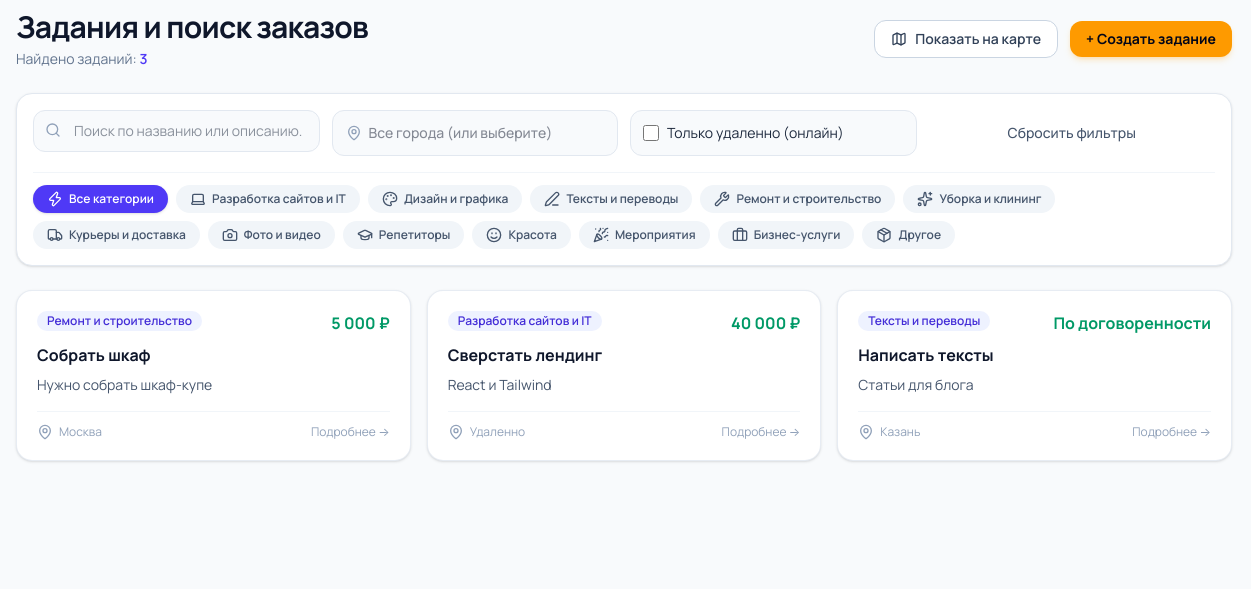
it: TasksPage › «Сбросить фильтры» возвращает список целиком
The image size is (1251, 589).
Type "нетакогозадания" into the field with placeholder "Поиск по названию или описанию...".
click(176, 131); type("нетакогозадания")  # box [33,110,320,152]
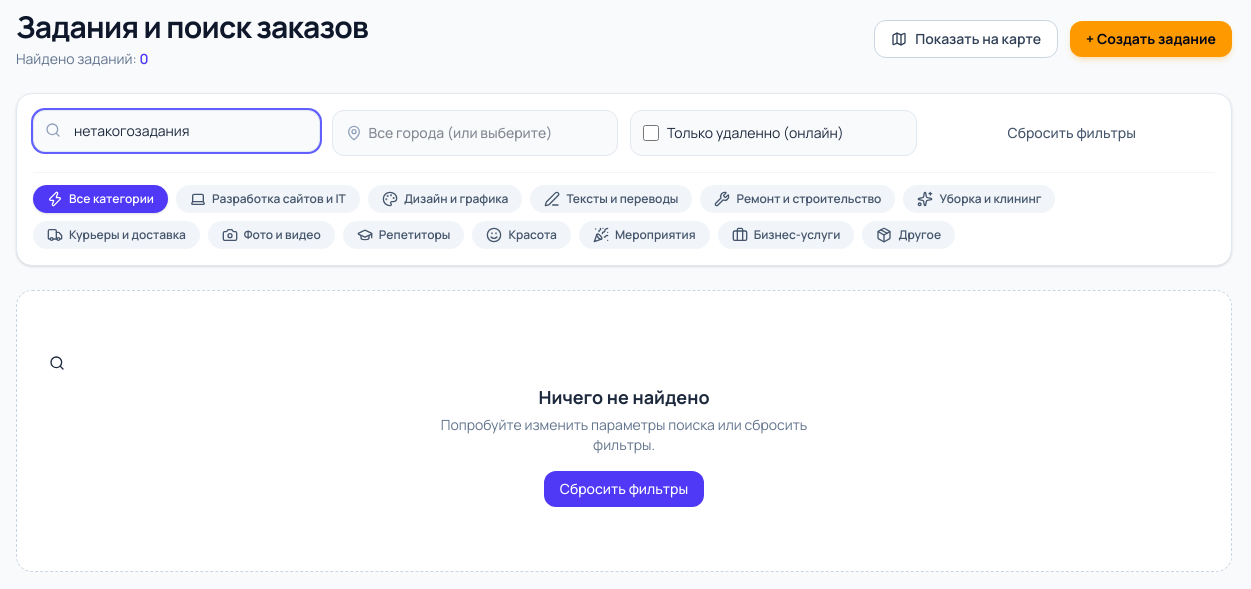
Click the button "Сбросить фильтры" below "Ничего не найдено".
click(624, 489)  # box [544,471,704,507]
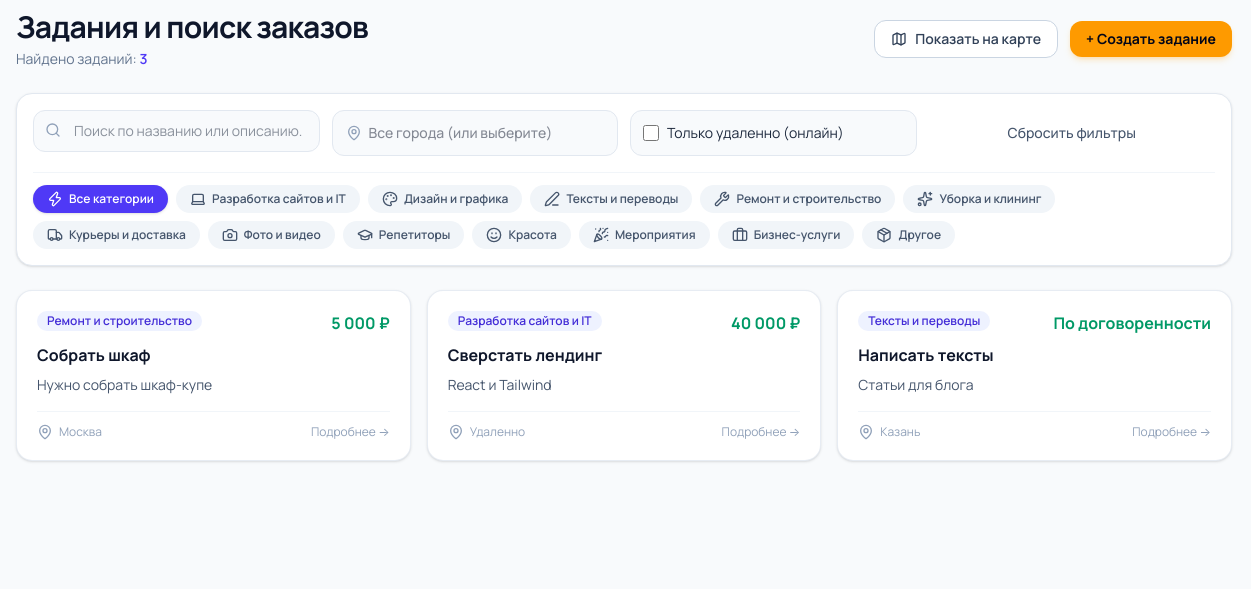
Expected: the heading "Собрать шкаф" is shown, [37,344,151,366]
Expected: the text "3" is shown, [140,49,148,68]
